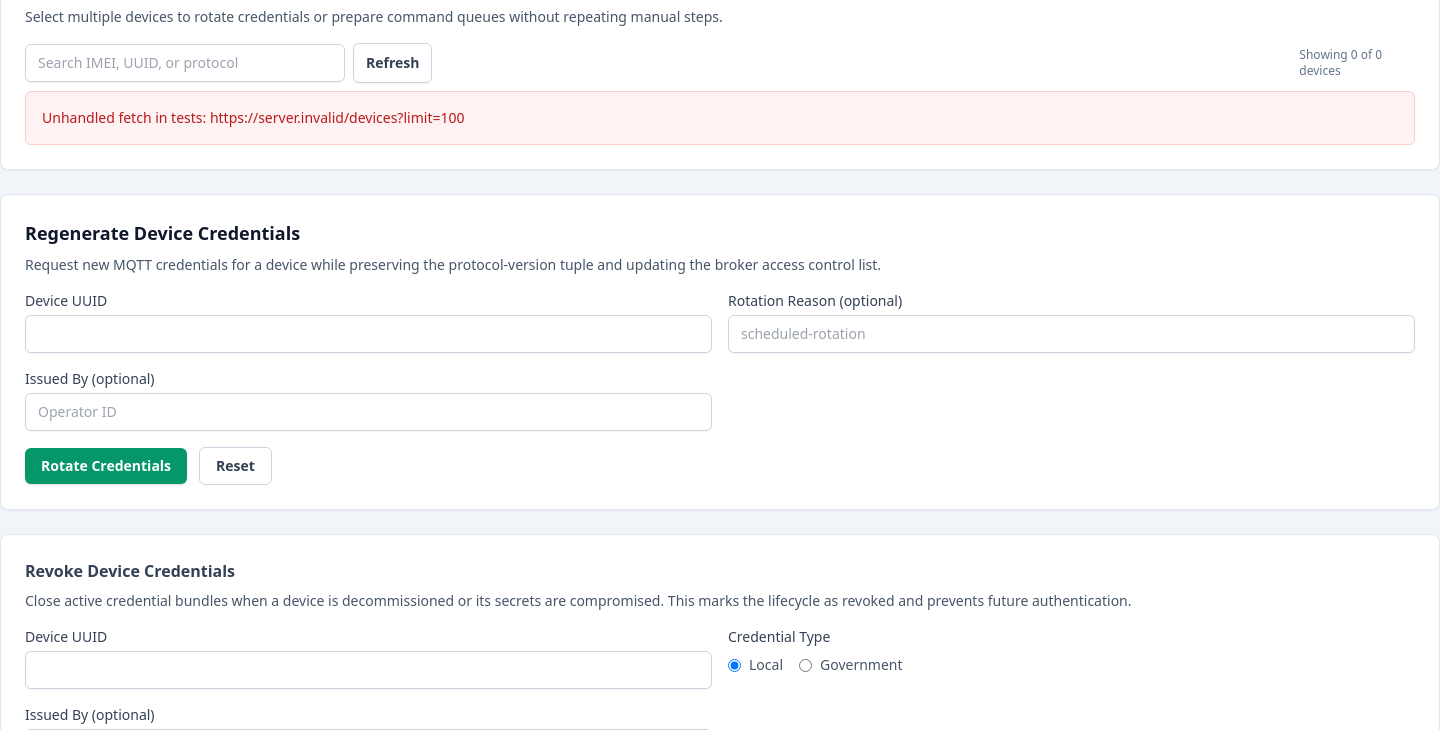
DeviceConfigurationPage credential revocation › revokes credentials and shows lifecycle transitions
The image size is (1440, 730).
Type "uuid-1" into the field labelled "Device UUID" next to "Local" at (368, 670), box [25,651,712,689]
(page scrolled)
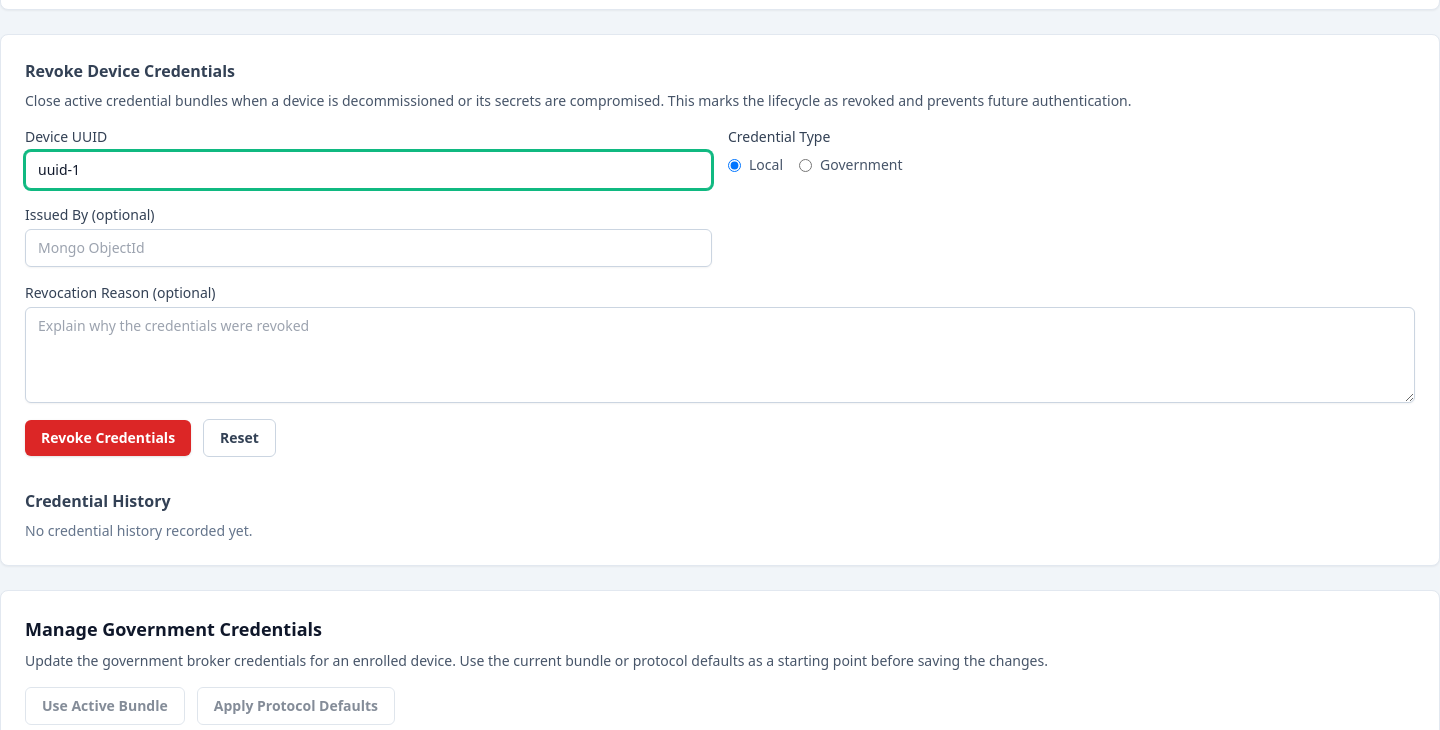
Type "Compromised credential bundle" into the text box labelled "Revocation Reason (optional)" at (720, 355), box [25,307,1415,403]
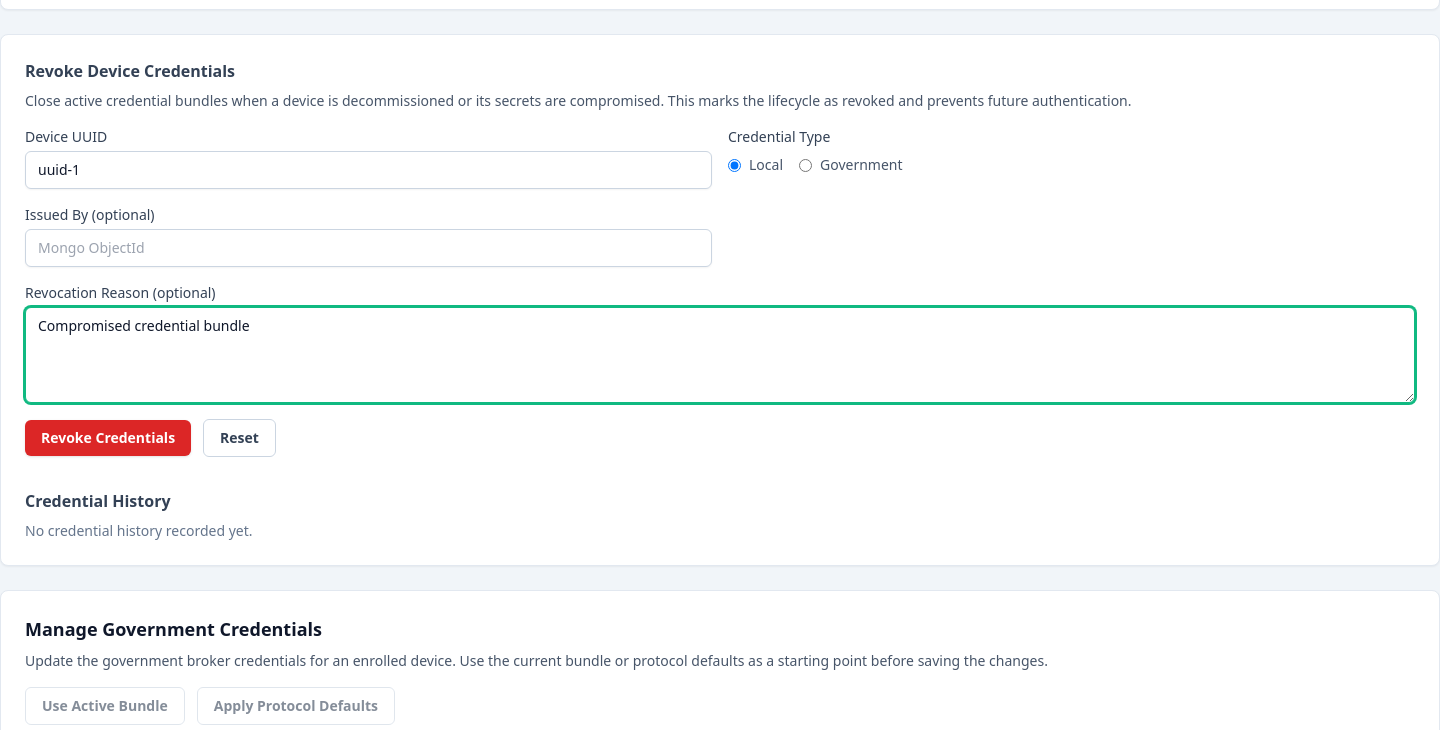
Click the button "Revoke Credentials" at (108, 438), box [25,420,191,456]
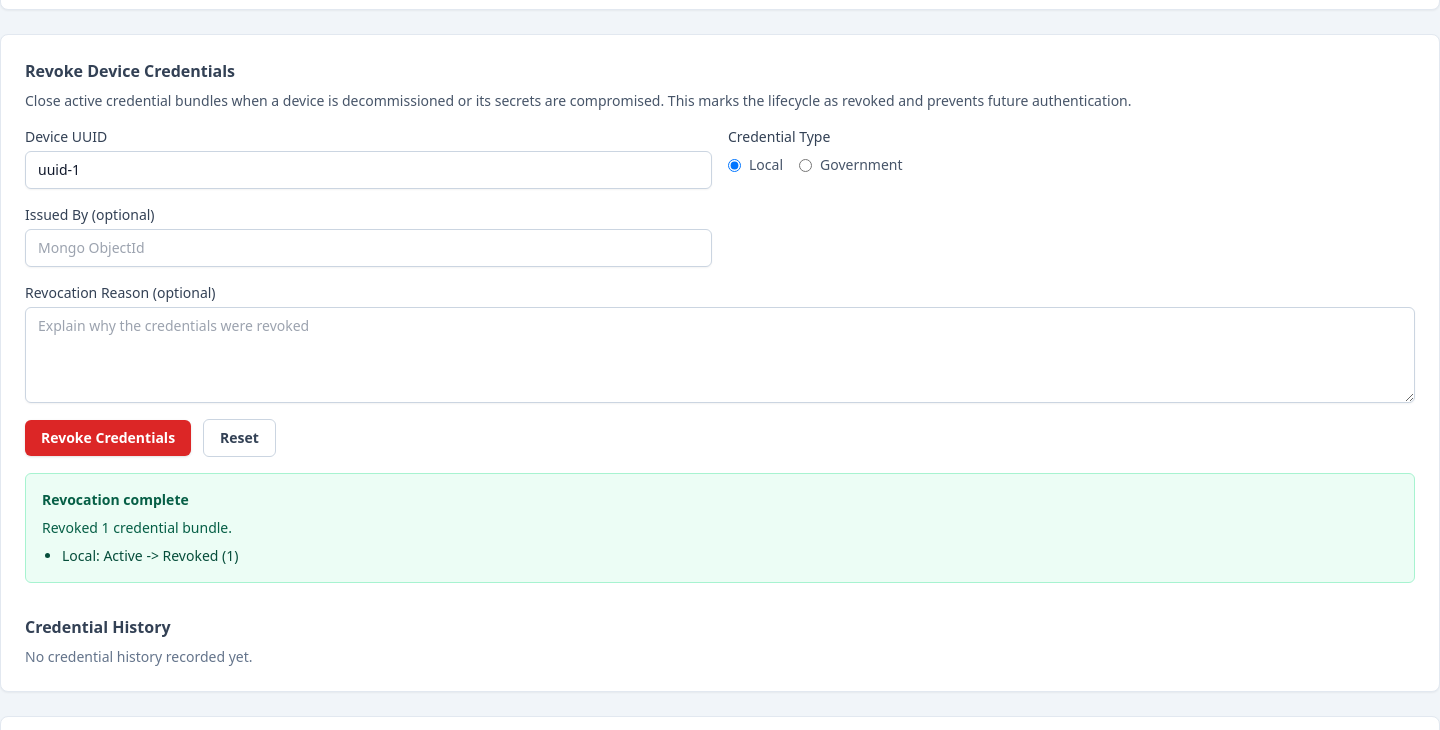
Result: the text "Revocation complete" is shown at [42,490,189,509]
Result: the list item "Local: Active -> Revoked (1)" is shown at [62,546,238,565]
